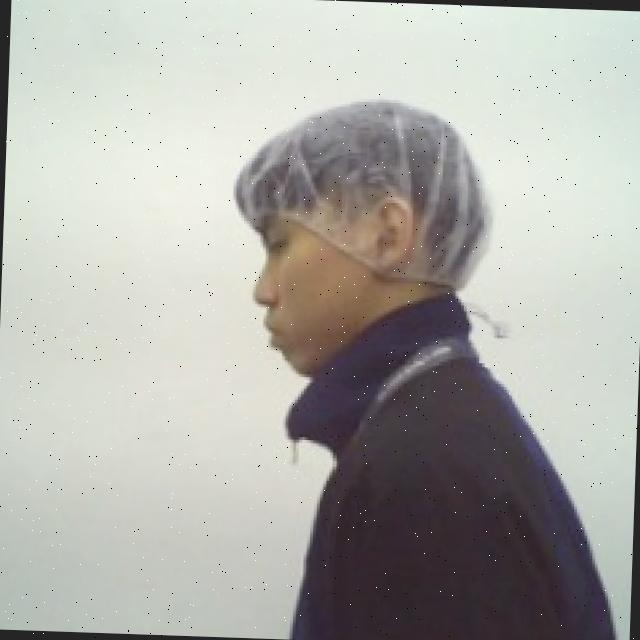gloves: (224, 89, 505, 301)
no_hairnet: (244, 186, 418, 396)
